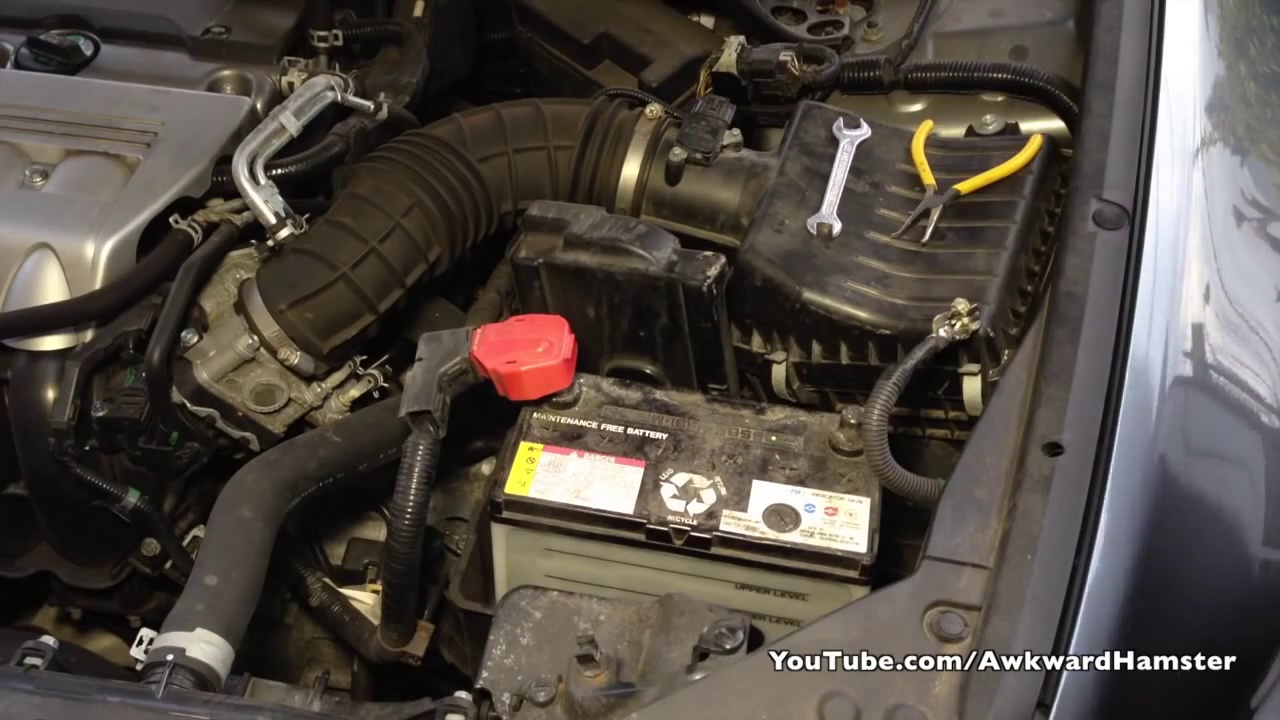battery: (487, 350, 881, 570)
neg_disconnected: (787, 383, 903, 469)
pos_connected: (437, 300, 590, 419)
